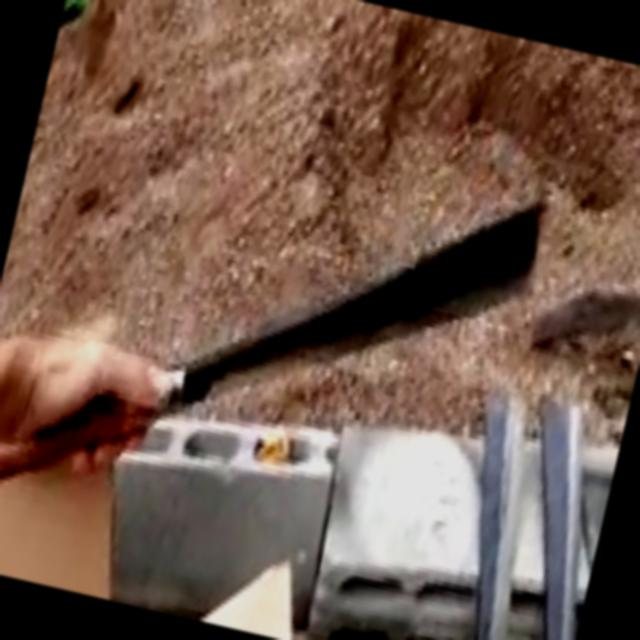eto: (0, 193, 546, 492), (475, 389, 526, 640), (539, 393, 581, 640)
